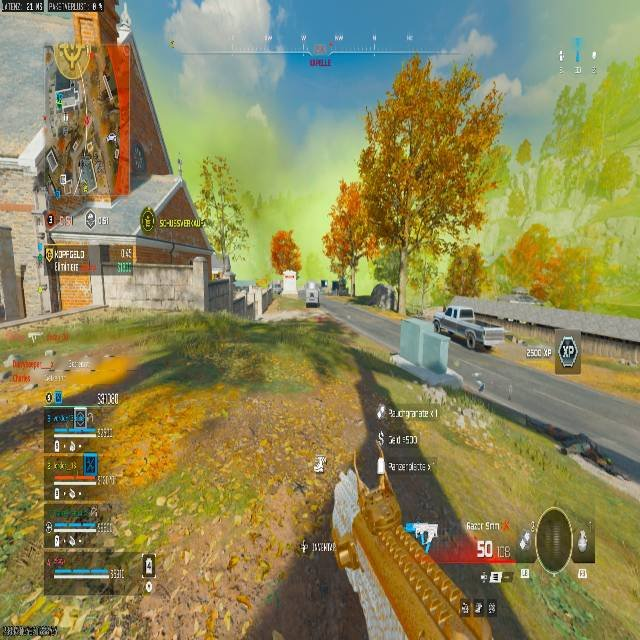player: (303, 281, 321, 309)
